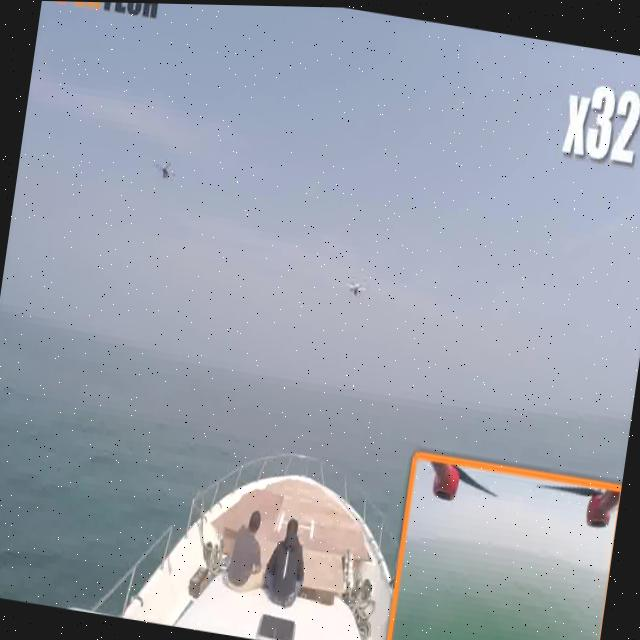drone: (148, 145, 182, 196), (336, 266, 371, 305)
